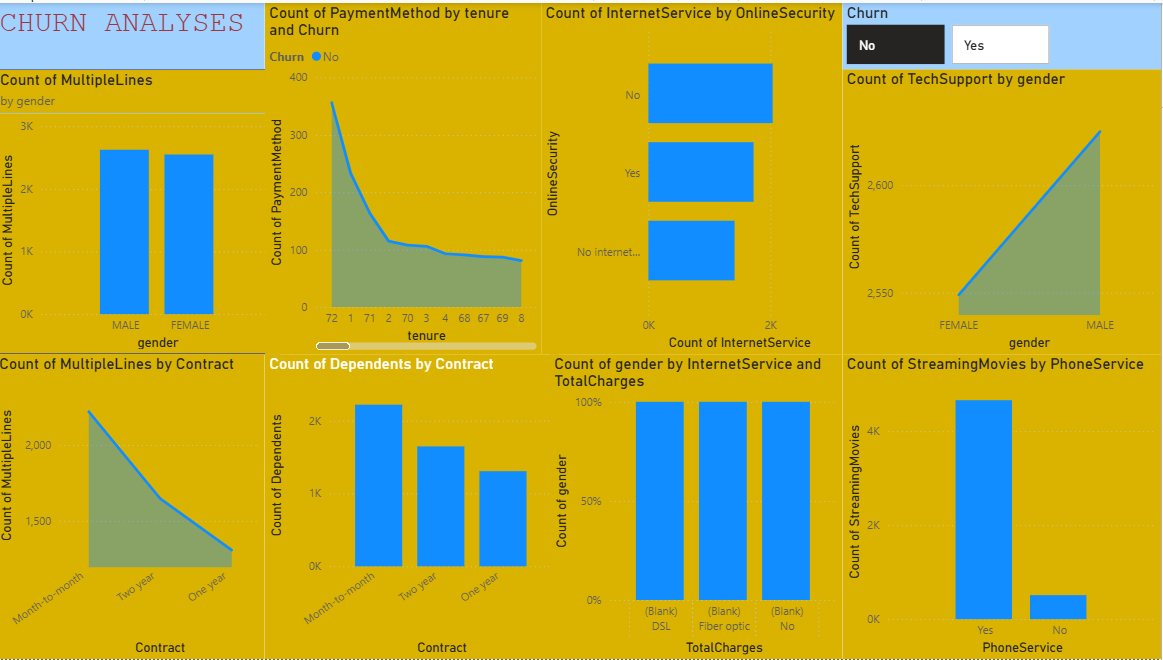

Layout of this report page (visuals, bound fields, positions):
{"tool":"powerbi","page":{"name":"Page 1","canvas":[1280,720],"ordinal":0},"visuals":[{"type":"lineStackedColumnComboChart","fields":{"Category":["WA_Fn-UseC_-Telco-Customer-Churn.gender"],"Y":["CountNonNull(WA_Fn-UseC_-Telco-Customer-Churn.MultipleLines)"]},"box":[0,72.7,312.9,312.9],"z":0},{"type":"areaChart","fields":{"Category":["WA_Fn-UseC_-Telco-Customer-Churn.tenure"],"Y":["CountNonNull(WA_Fn-UseC_-Telco-Customer-Churn.PaymentMethod)"],"Series":["WA_Fn-UseC_-Telco-Customer-Churn.Churn"]},"box":[296.4,0,303.3,385.6],"z":1000},{"type":"lineClusteredColumnComboChart","fields":{"Category":["WA_Fn-UseC_-Telco-Customer-Churn.Contract"],"Y":["CountNonNull(WA_Fn-UseC_-Telco-Customer-Churn.Dependents)"]},"box":[296.4,385.6,322.5,334.8],"z":2000},{"type":"hundredPercentStackedColumnChart","fields":{"Category":["WA_Fn-UseC_-Telco-Customer-Churn.InternetService","WA_Fn-UseC_-Telco-Customer-Churn.TotalCharges"],"Y":["CountNonNull(WA_Fn-UseC_-Telco-Customer-Churn.gender)"]},"box":[609.3,385.6,321.1,334.8],"z":3000},{"type":"textbox","box":[0,0,296.4,72.7],"z":4000},{"type":"clusteredBarChart","fields":{"Category":["WA_Fn-UseC_-Telco-Customer-Churn.OnlineSecurity"],"Y":["CountNonNull(WA_Fn-UseC_-Telco-Customer-Churn.InternetService)"]},"box":[599.7,0,330.7,385.6],"z":5000},{"type":"columnChart","fields":{"Category":["WA_Fn-UseC_-Telco-Customer-Churn.PhoneService"],"Y":["CountNonNull(WA_Fn-UseC_-Telco-Customer-Churn.StreamingMovies)"]},"box":[930.4,385.6,349.9,334.8],"z":6000},{"type":"stackedAreaChart","fields":{"Category":["WA_Fn-UseC_-Telco-Customer-Churn.Contract"],"Y":["CountNonNull(WA_Fn-UseC_-Telco-Customer-Churn.MultipleLines)"]},"box":[0,385.6,296.4,334.8],"z":7000},{"type":"areaChart","fields":{"Category":["WA_Fn-UseC_-Telco-Customer-Churn.gender","WA_Fn-UseC_-Telco-Customer-Churn.tenure"],"Y":["CountNonNull(WA_Fn-UseC_-Telco-Customer-Churn.TechSupport)"]},"box":[930.4,72.7,349.9,312.9],"z":8000},{"type":"advancedSlicerVisual","fields":{"Values":["WA_Fn-UseC_-Telco-Customer-Churn.Churn"]},"box":[930.4,0,349.9,72.7],"z":8001}]}

Visuals, with their boxes in screenshot pixels (x1, y1, x2, y2), scaled from the page's 1280x720 canvas onto the 1163x660 screenshot:
lineStackedColumnComboChart - WA_Fn-UseC_-Telco-Customer-Churn.gender x CountNonNull(WA_Fn-UseC_-Telco-Customer-Churn.MultipleLines): bbox=(0, 67, 284, 353)
areaChart - WA_Fn-UseC_-Telco-Customer-Churn.tenure x CountNonNull(WA_Fn-UseC_-Telco-Customer-Churn.PaymentMethod): bbox=(269, 0, 545, 353)
lineClusteredColumnComboChart - WA_Fn-UseC_-Telco-Customer-Churn.Contract x CountNonNull(WA_Fn-UseC_-Telco-Customer-Churn.Dependents): bbox=(269, 353, 562, 659)
hundredPercentStackedColumnChart - WA_Fn-UseC_-Telco-Customer-Churn.InternetService x WA_Fn-UseC_-Telco-Customer-Churn.TotalCharges: bbox=(554, 353, 845, 659)
textbox: bbox=(0, 0, 269, 67)
clusteredBarChart - WA_Fn-UseC_-Telco-Customer-Churn.OnlineSecurity x CountNonNull(WA_Fn-UseC_-Telco-Customer-Churn.InternetService): bbox=(545, 0, 845, 353)
columnChart - WA_Fn-UseC_-Telco-Customer-Churn.PhoneService x CountNonNull(WA_Fn-UseC_-Telco-Customer-Churn.StreamingMovies): bbox=(845, 353, 1162, 659)
stackedAreaChart - WA_Fn-UseC_-Telco-Customer-Churn.Contract x CountNonNull(WA_Fn-UseC_-Telco-Customer-Churn.MultipleLines): bbox=(0, 353, 269, 659)
areaChart - WA_Fn-UseC_-Telco-Customer-Churn.gender x WA_Fn-UseC_-Telco-Customer-Churn.tenure: bbox=(845, 67, 1162, 353)
advancedSlicerVisual - WA_Fn-UseC_-Telco-Customer-Churn.Churn: bbox=(845, 0, 1162, 67)
